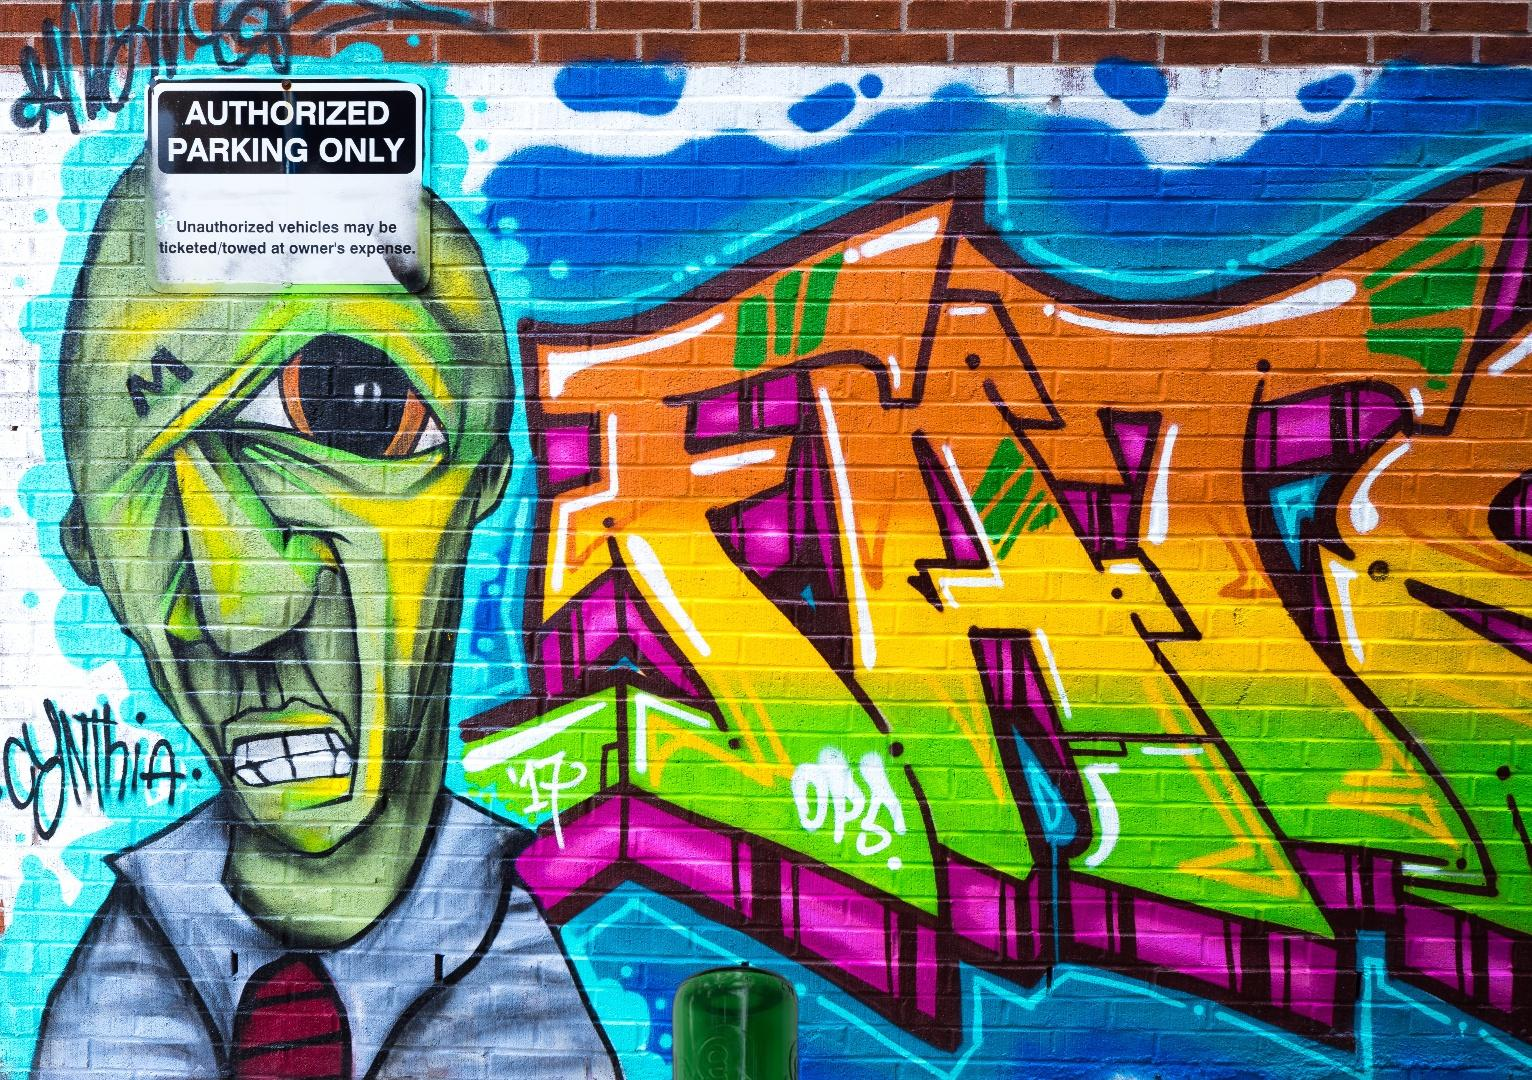glass: (660, 963, 811, 1080)
